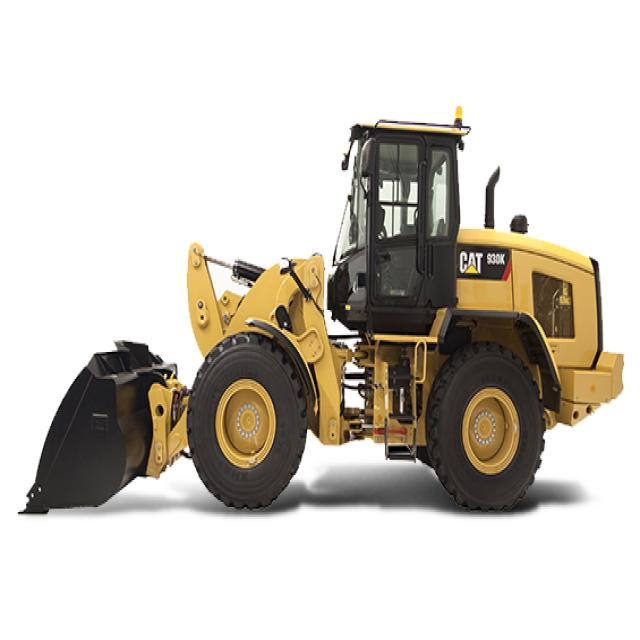buldozerpayloadergrader: (15, 96, 626, 540)
